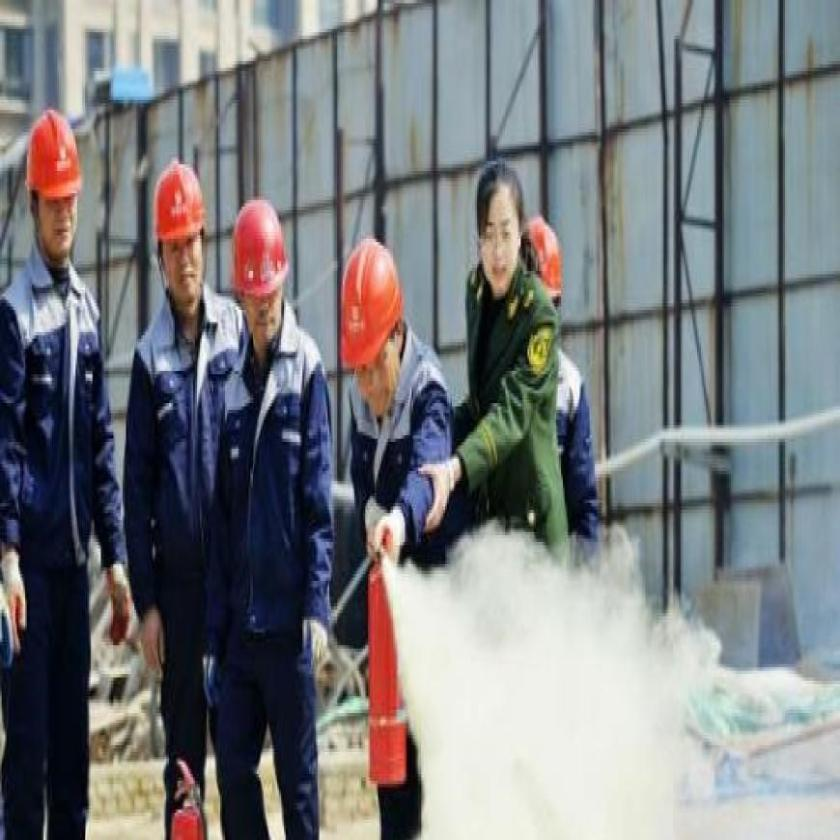Con_casco: (339, 238, 409, 427), (230, 197, 292, 355), (25, 103, 81, 272), (151, 159, 203, 318)
Sin_casco: (469, 156, 524, 304)
